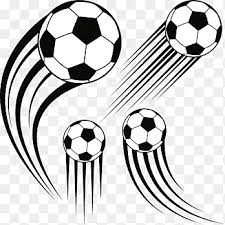football ball: (38, 1, 122, 84), (164, 1, 222, 57), (121, 108, 166, 153), (61, 120, 106, 164)
